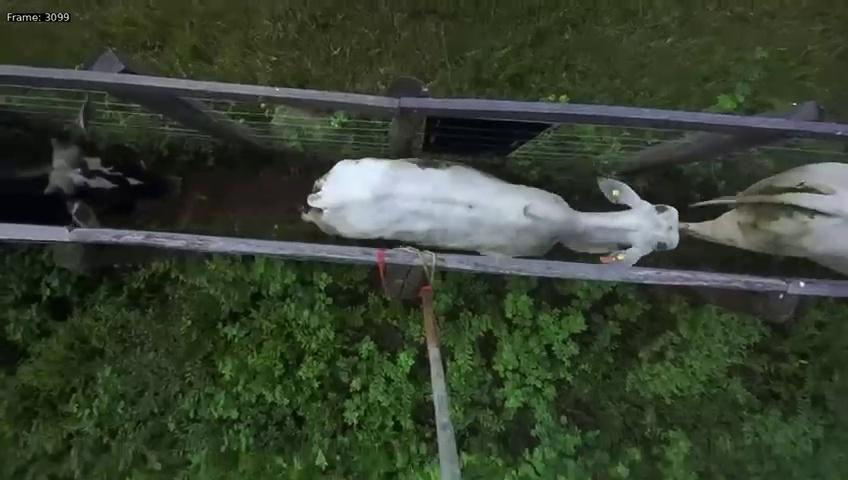cattle: (291, 147, 680, 274)
